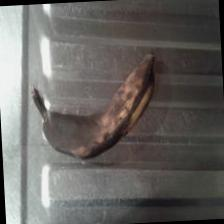Banana Rotten: (24, 68, 156, 162), (108, 25, 168, 132)
